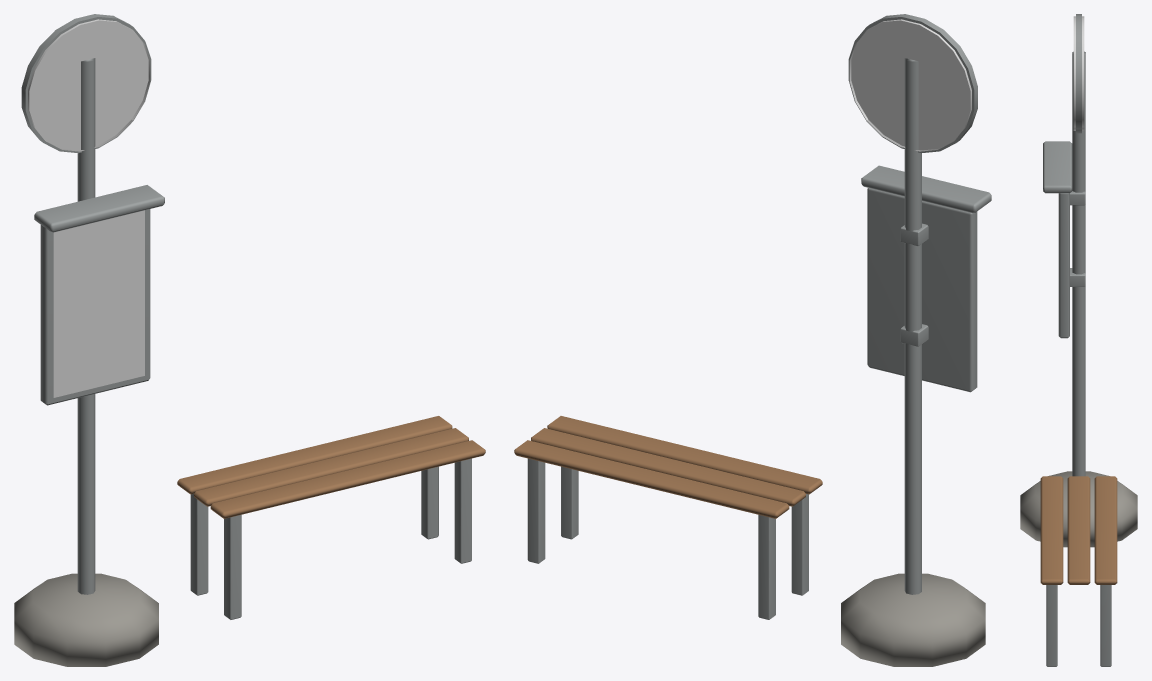
Rendered from BusStopPoleKM.fbx.
The picture shows the model from 3 angles, left to right: view 1: azimuth 30°, elevation 25°; view 2: azimuth 150°, elevation 25°; view 3: azimuth 270°, elevation 25°; orthographic projection. The views are drawn at different scales.
Parts seen in each view (by area): view 1: BusStopPoleKM; view 2: BusStopPoleKM; view 3: BusStopPoleKM.
Boxes of the visible parts, x1,y1,x2,y2 form: BusStopPoleKM: [14, 14, 485, 666]; BusStopPoleKM: [514, 14, 991, 666]; BusStopPoleKM: [1020, 14, 1137, 666].
Bounding box in the file's own units: 1.83 × 2.46 × 0.5216.
